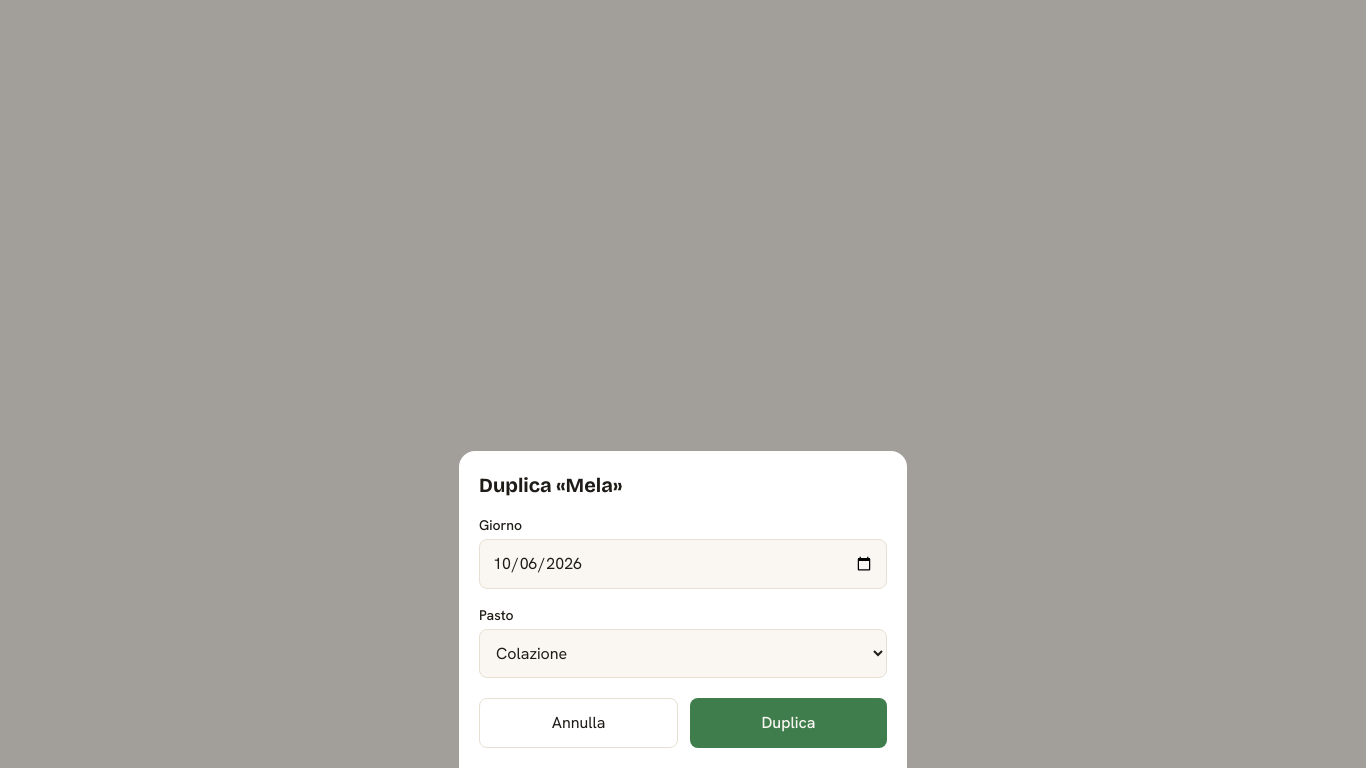
it: SheetDuplica › senza giorno Duplica resta spento
Clear the date field labelled "Giorno": x=683, y=564 x1=479 y1=539 x2=887 y2=589
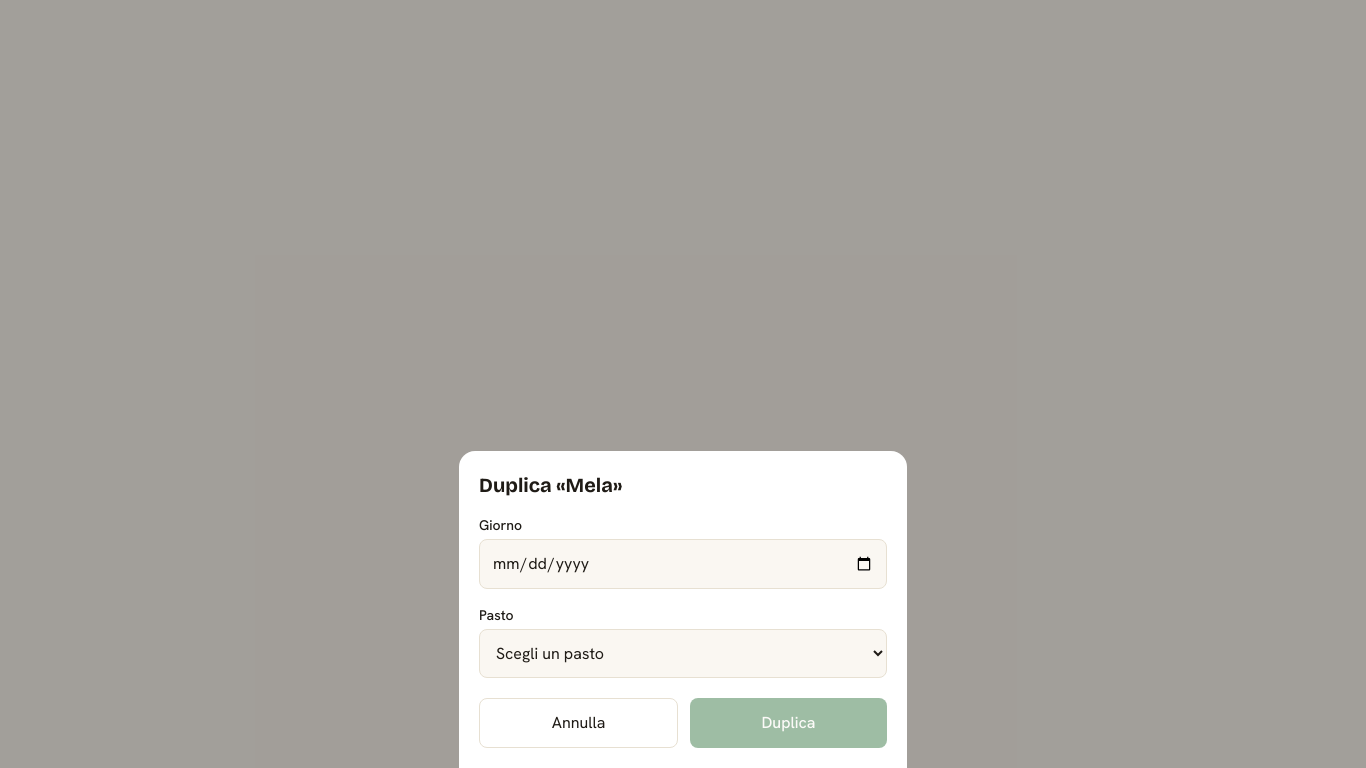
Expected: the button "Duplica" is disabled, x1=690 y1=698 x2=887 y2=748
